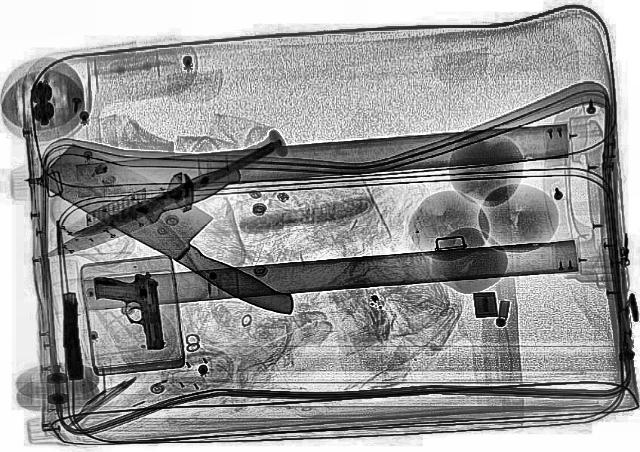Gun: (91, 272, 167, 352), (60, 293, 82, 381)
Knife: (22, 139, 336, 321), (34, 160, 250, 266), (64, 141, 286, 243)
